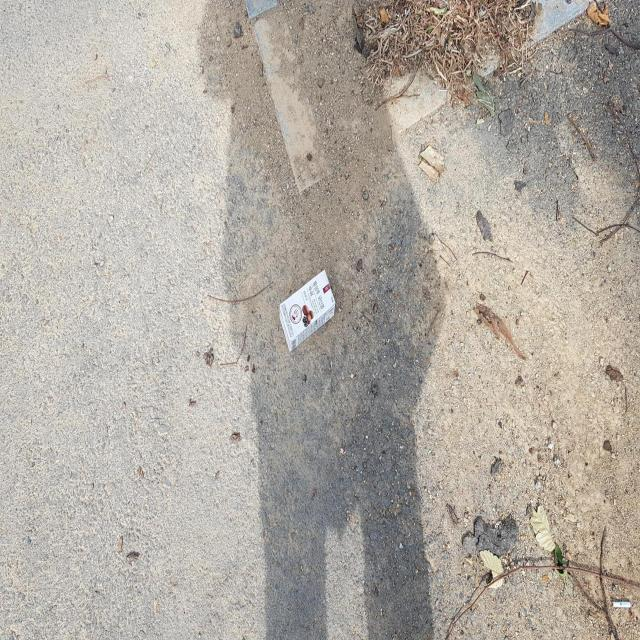paperpack: (279, 269, 336, 350)
